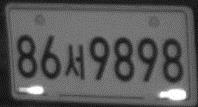6: (40, 35, 61, 80)
8: (112, 36, 135, 82), (161, 38, 183, 84), (16, 34, 38, 78)
9: (88, 35, 111, 80), (138, 37, 159, 83)
서: (63, 43, 87, 81)
